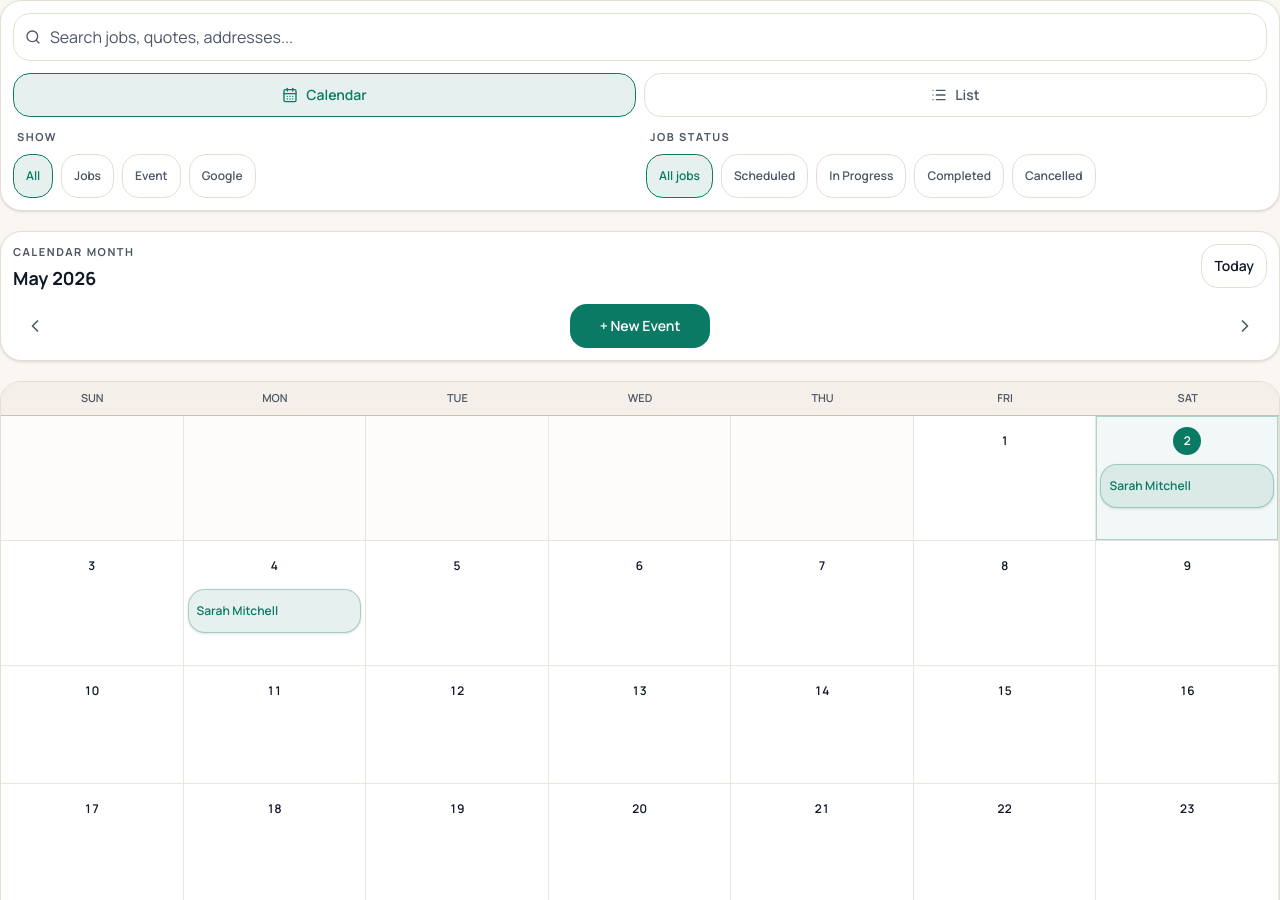
Test: ScheduleCalendar › shows a success toast after adding a scheduled day
Step 1. Click the button "List" → click(956, 95), box [644,73,1267,117]
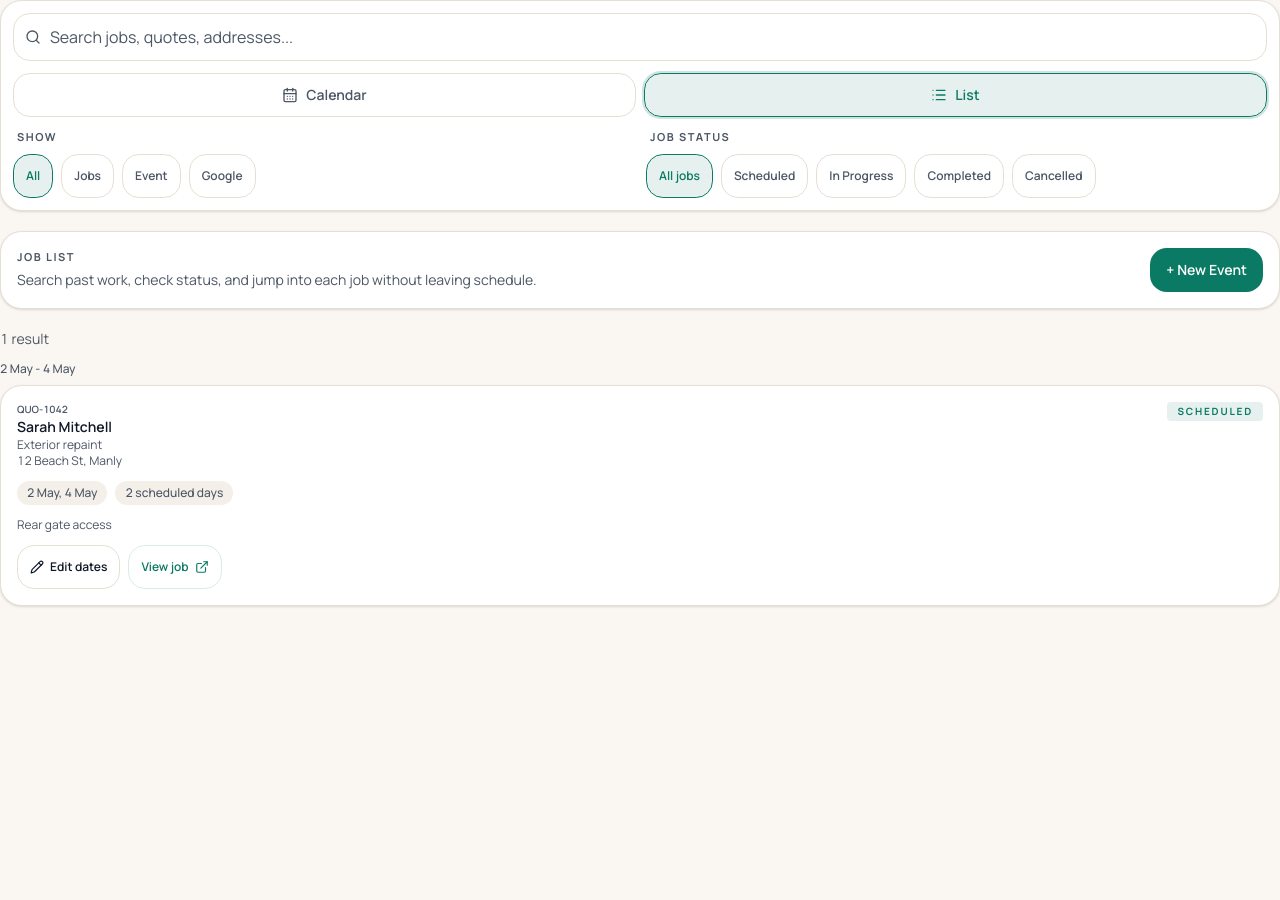
Step 2. Click the button "Edit dates" → click(69, 566), box [17,544,120,588]
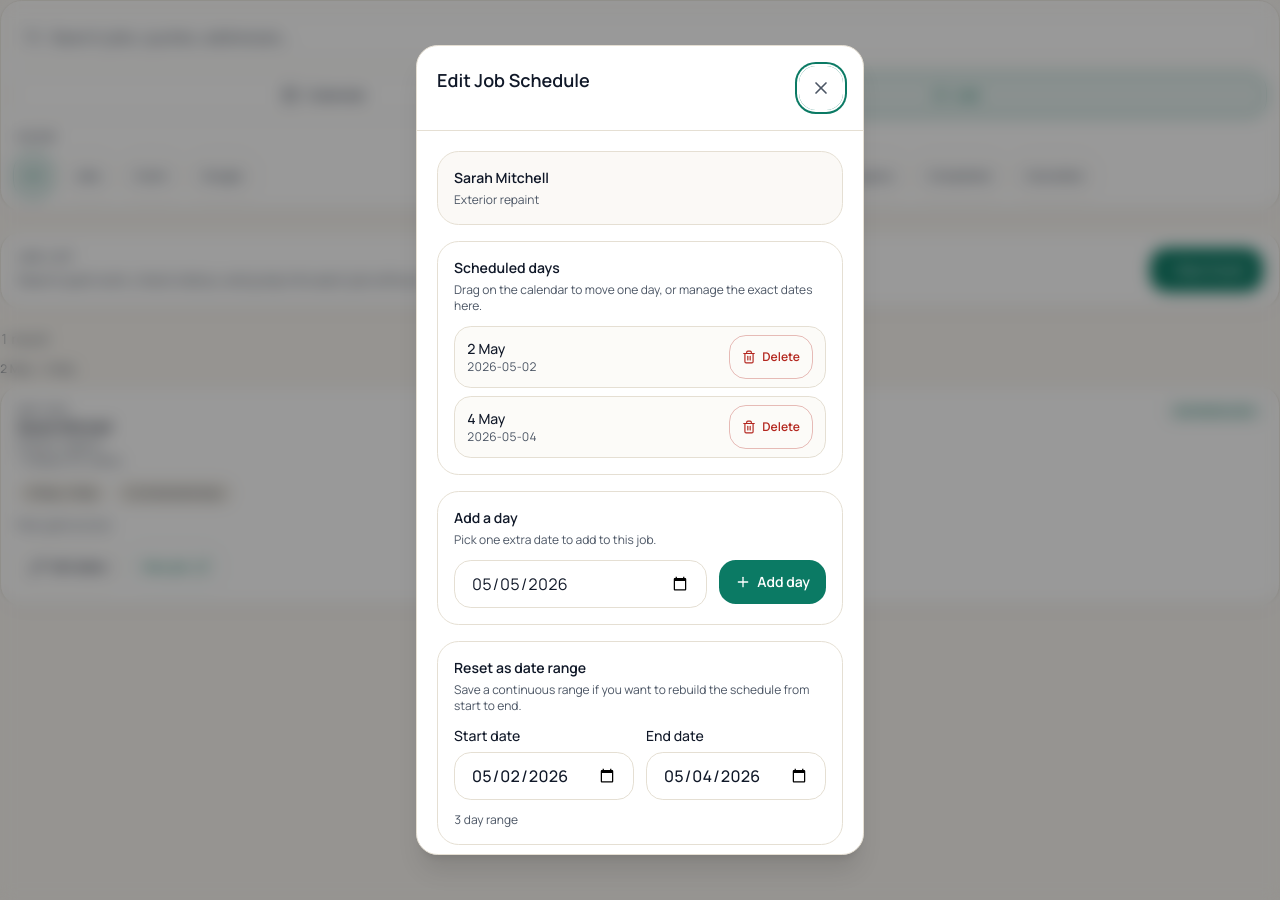
Step 3. Click the button "Add day" → click(773, 582), box [719,560,826,604]
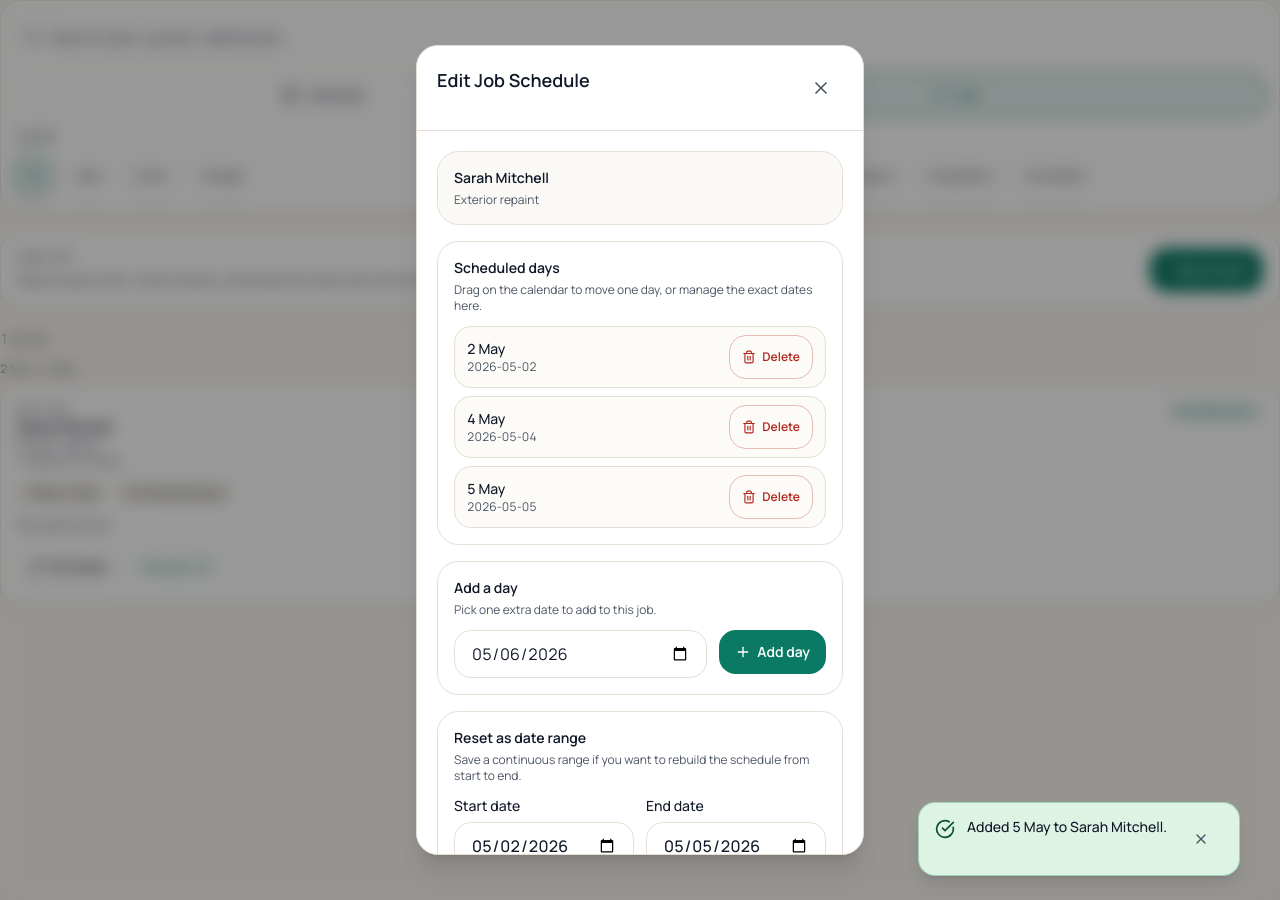
Expected: the text "Added 5 May to Sarah Mitchell." is shown, [967,817,1167,837]
